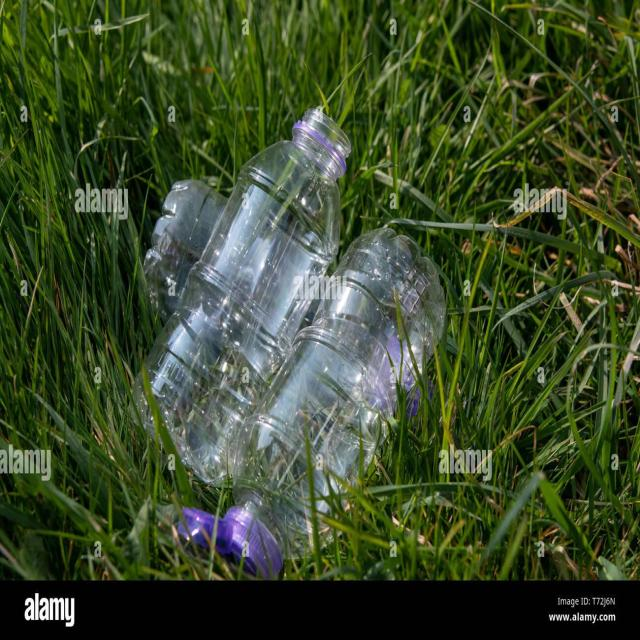bottle: (216, 225, 458, 580), (140, 94, 364, 463)
